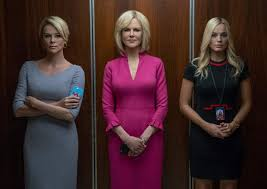white_female: (106, 17, 153, 58)
